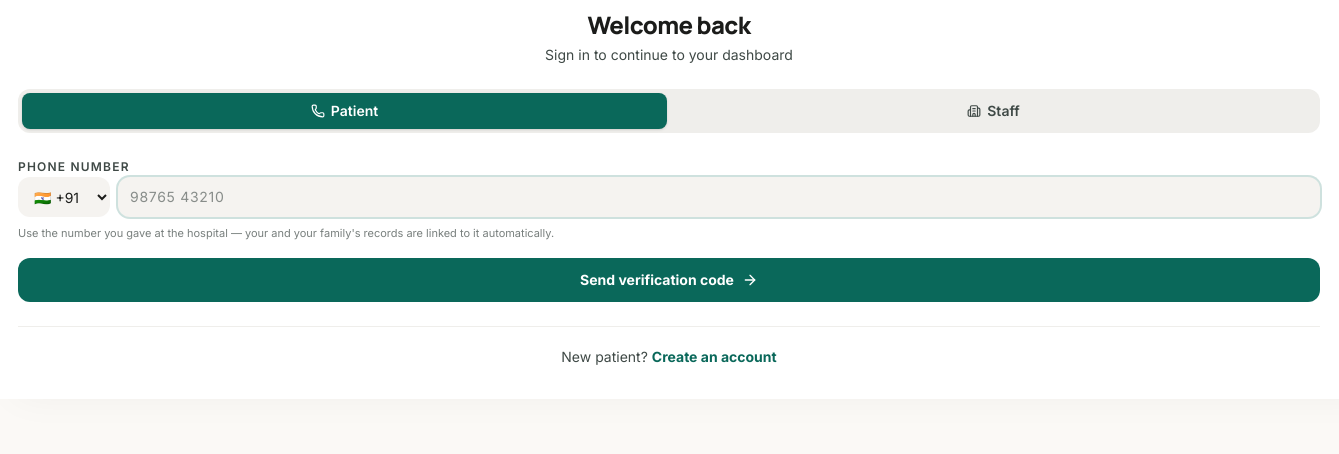
Test: Login page › patient sign-in › moves to the code step after a code is sent
Type "9876543210" into the field labelled "Phone Number" at (719, 197), box [118,177,1320,217]
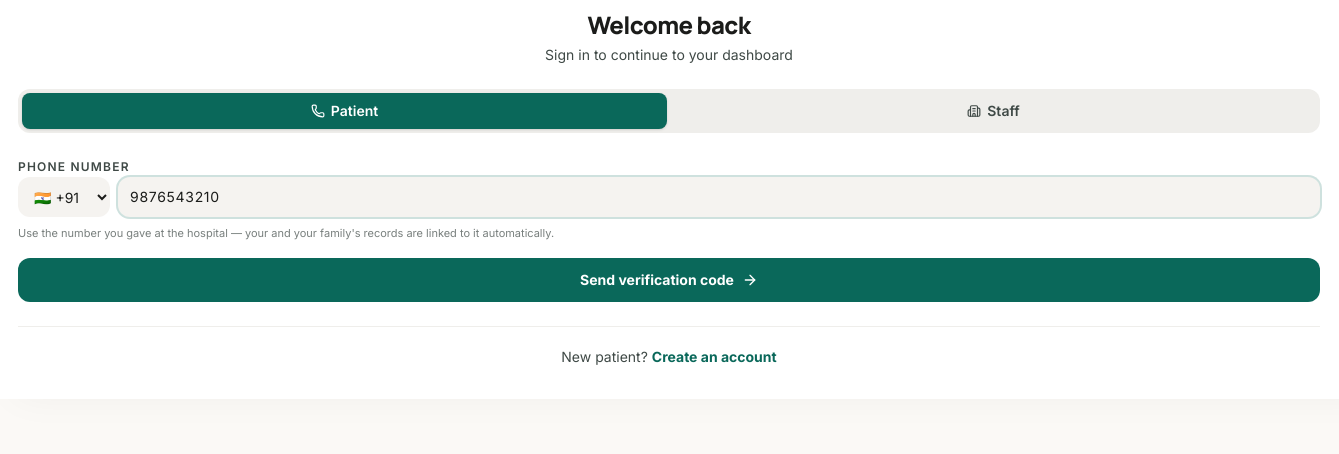
Click the button "Send verification code" at (669, 280), box [18,258,1320,302]
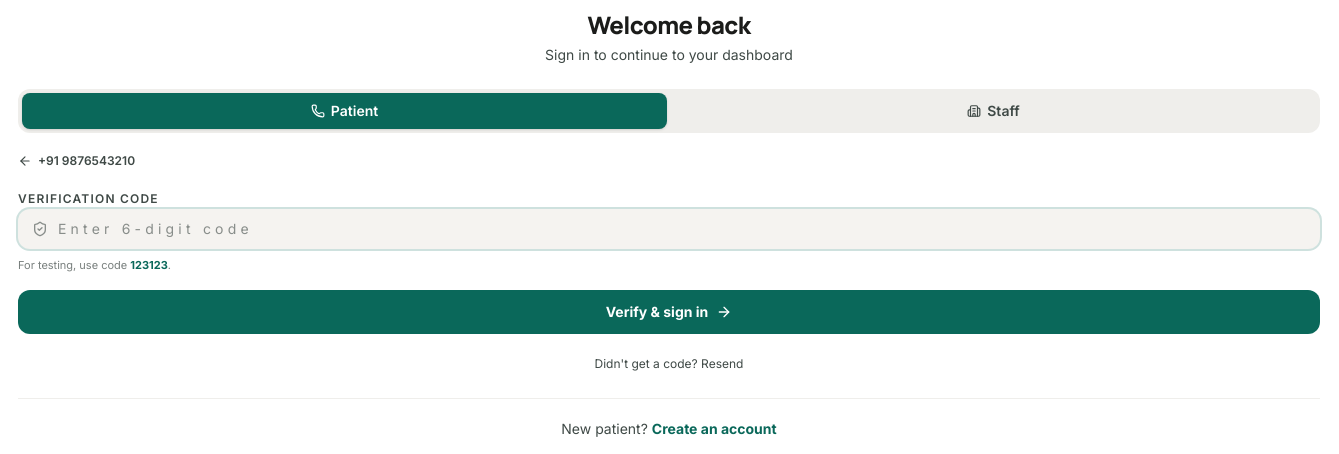
Expected: the field labelled "Verification Code" is shown, [18,209,1320,249]
